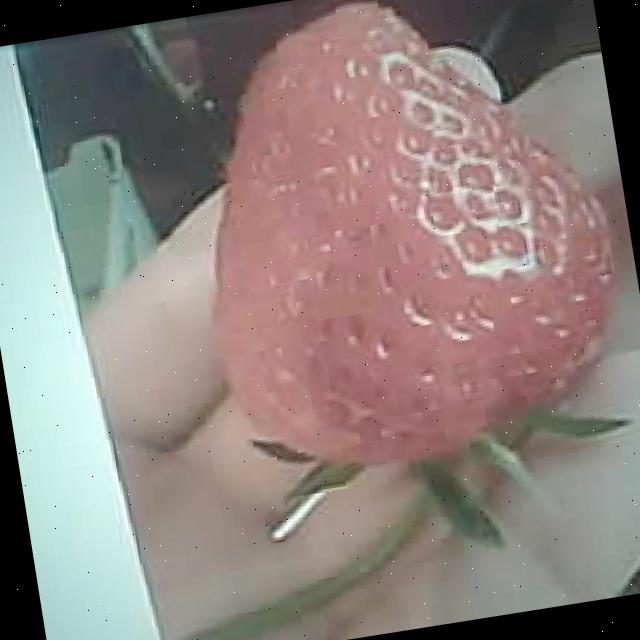strawberry: (167, 0, 640, 490)
